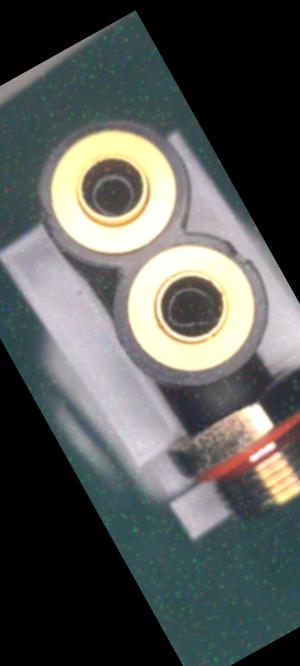bump: (29, 193, 70, 243), (223, 235, 259, 278)
off-centered: (151, 270, 229, 346)
white mark: (206, 390, 227, 410)
